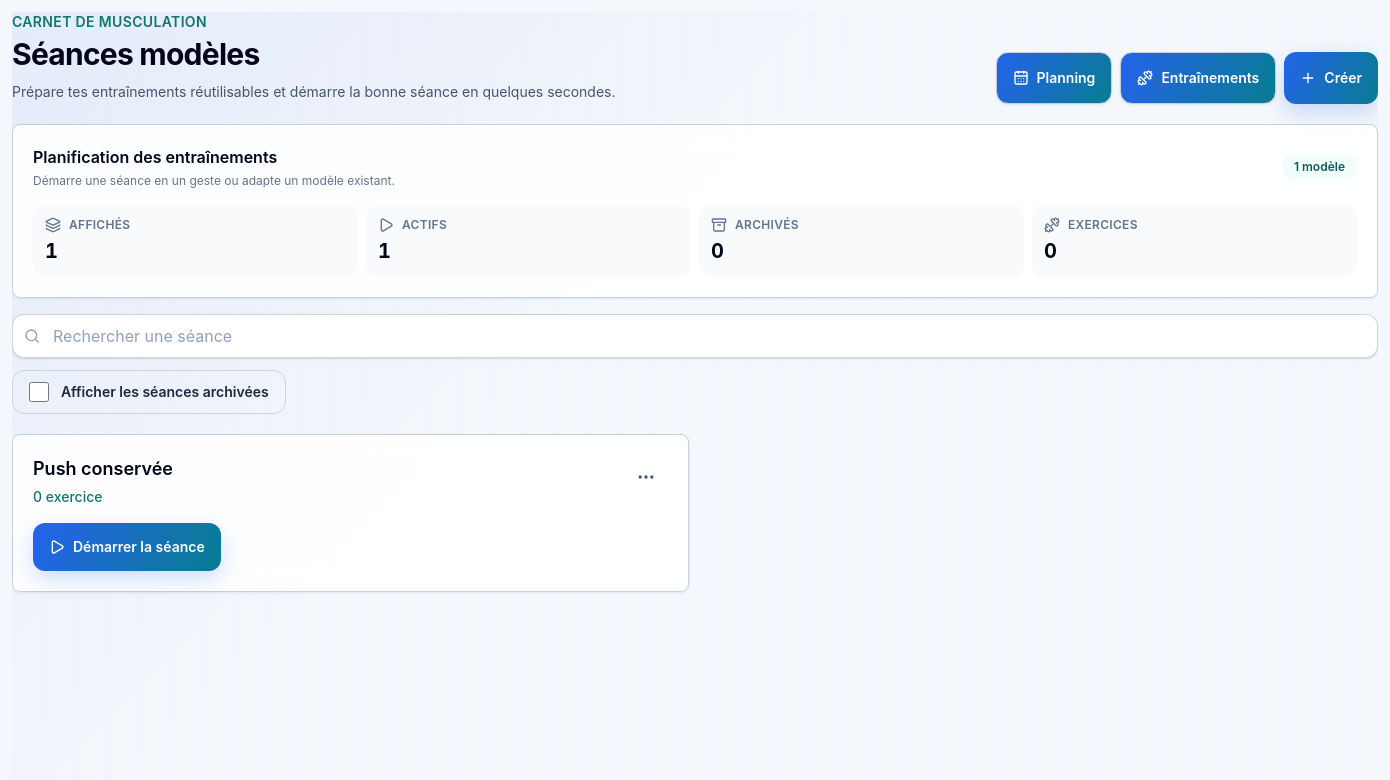
Test case: WorkoutTemplatesPage › efface uniquement la recherche lorsque celle-ci ne renvoie aucun modèle
Expected: the heading "Push conservée" is shown, [33,455,173,483]
Type "introuvable" into the search field named "Rechercher une séance modèle" at (695, 336), box [12,314,1378,358]
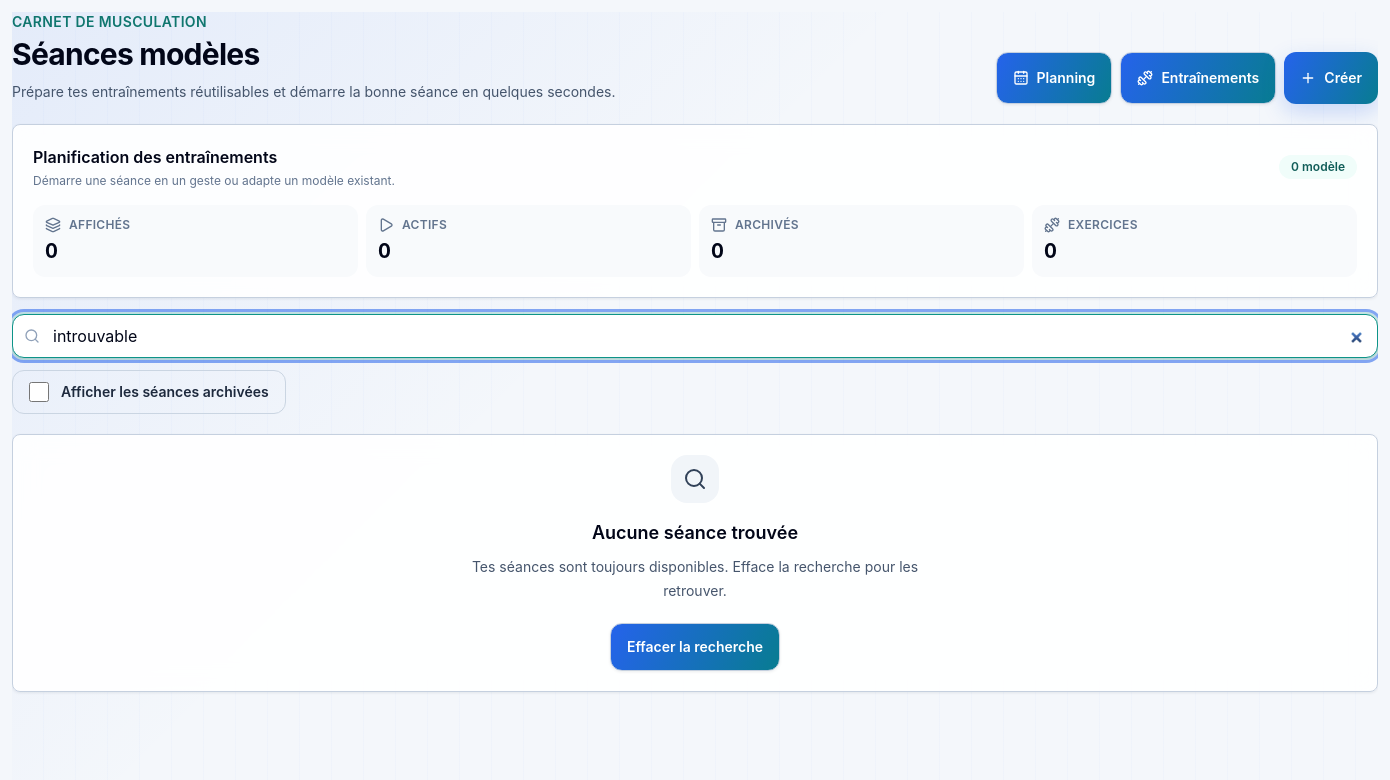
Expected: the element "Aucune séance trouvée" has attribute data-empty-state-variant="filtered", [12,434,1378,692]
Click the button "Effacer la recherche" at (695, 647), box [610,623,780,671]
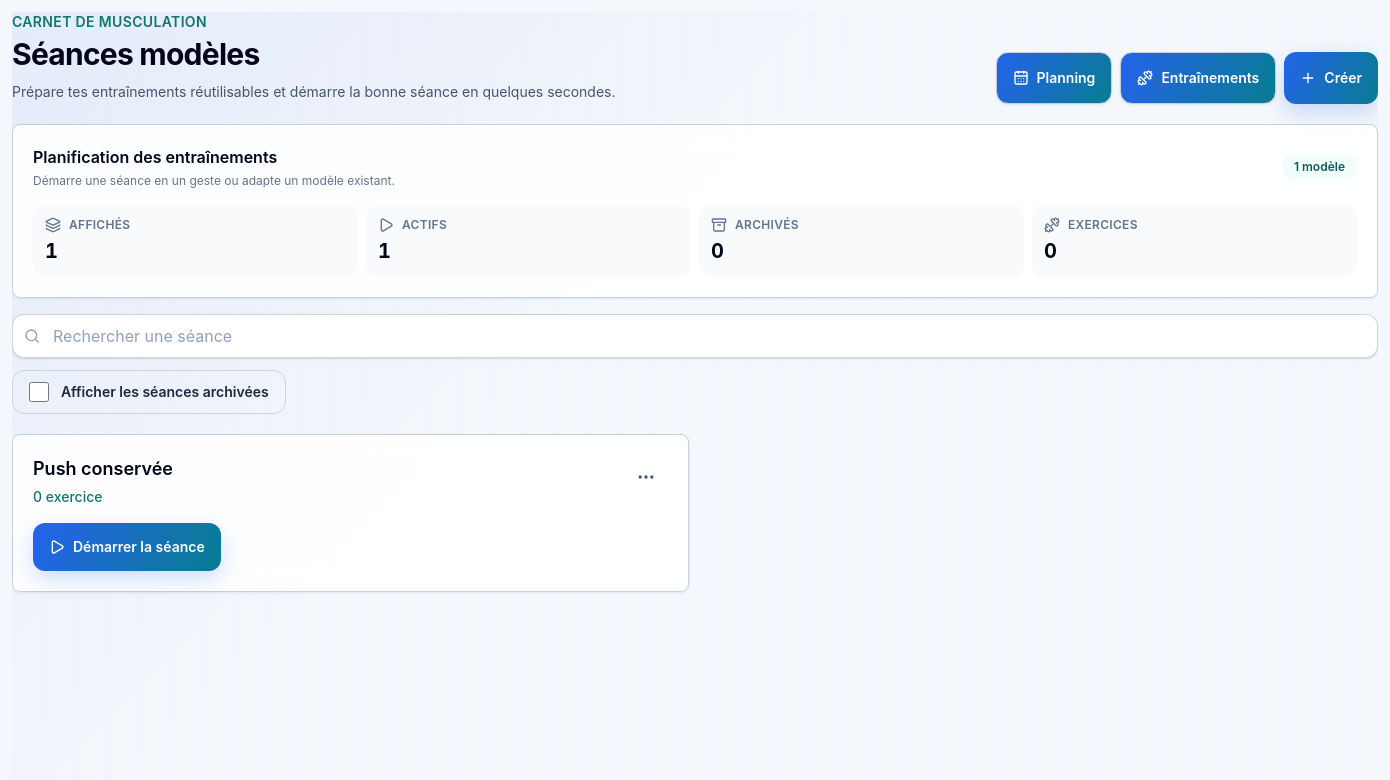
Expected: the heading "Push conservée" is shown, [33,455,173,483]
Expected: the search field named "Rechercher une séance modèle" is empty, [12,314,1378,358]
